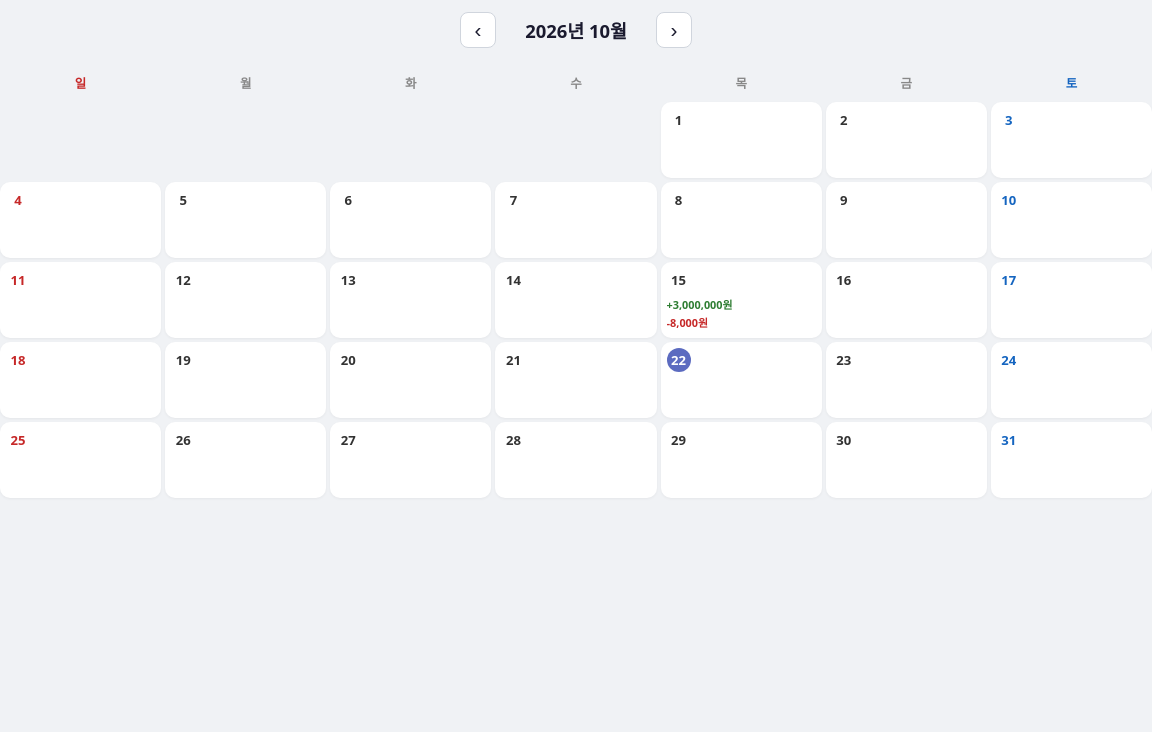
Test: 날짜를 누르면 상세가 표시되고 다시 누르면 닫힌다
What coordinates should you click on to do the following:
click the text "15"
I would click on:
 (741, 300)
Its box is [661,262,822,338].
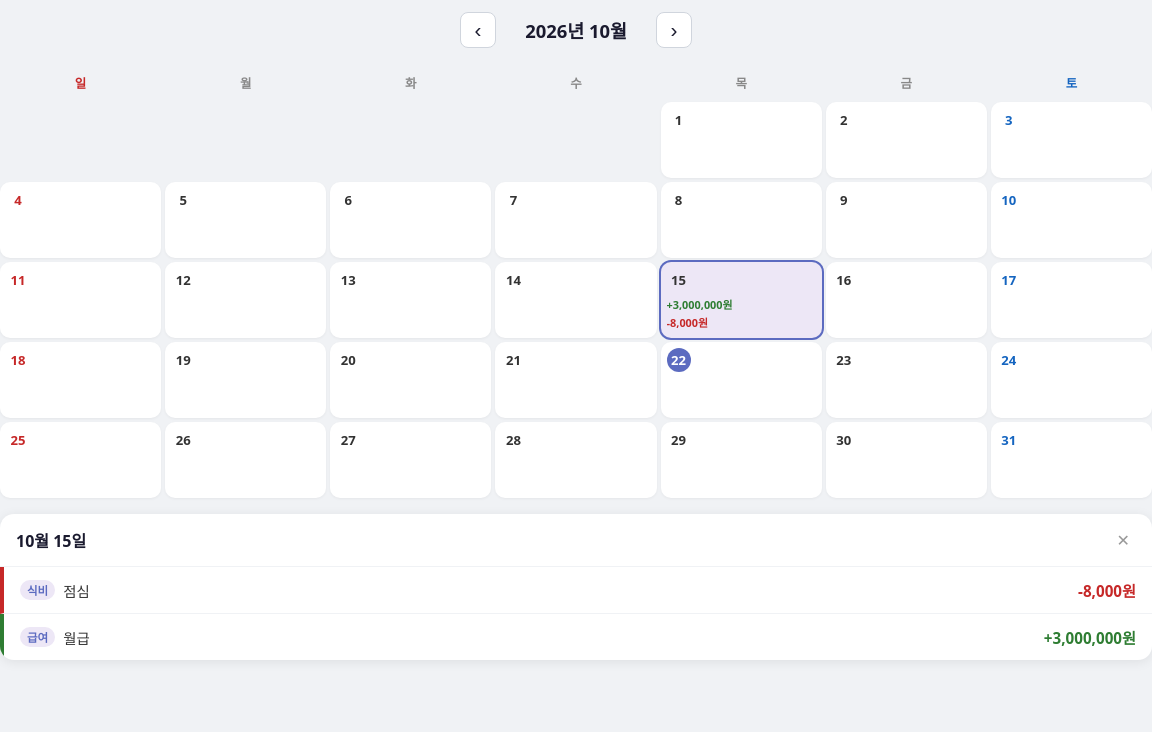
expect the text "10월 15일" is shown: met, box [16,528,86,552]
expect the text "점심" is shown: met, box [63,580,90,600]
expect the text "월급" is shown: met, box [63,626,90,648]
What coordinates should you click on to do the following:
click the text "15"
I would click on:
 (741, 300)
Its box is [661,262,822,338].
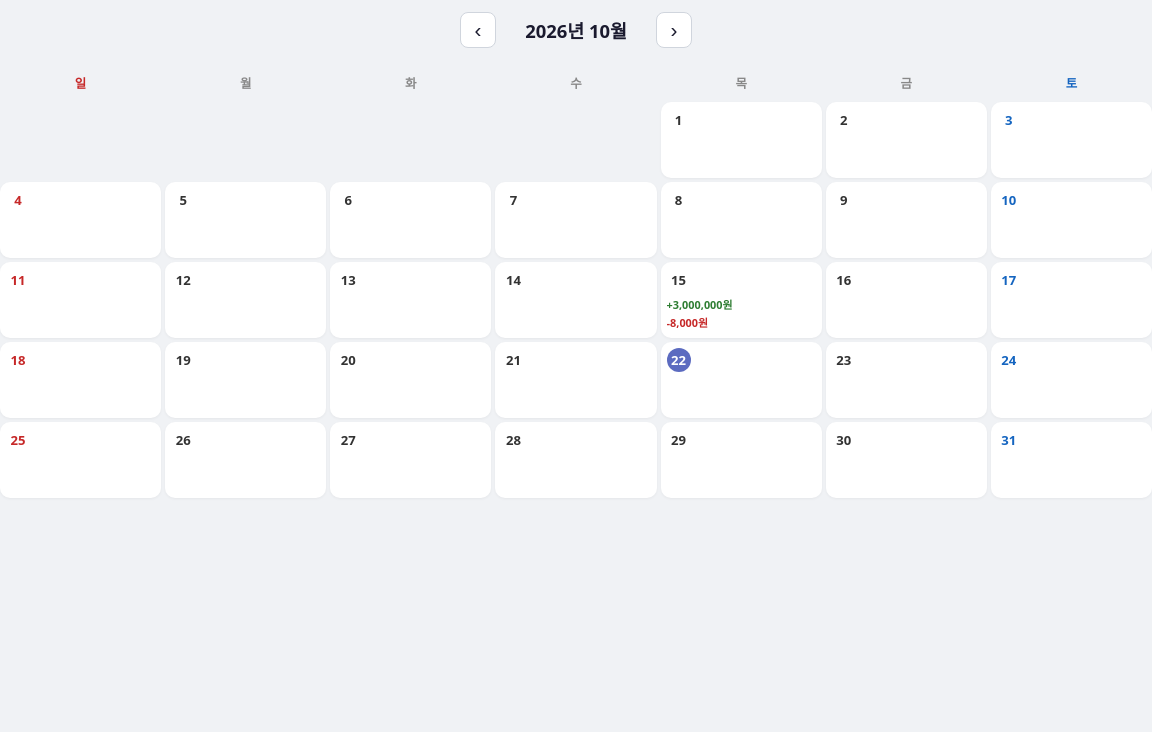
expect the text "10월 15일" is gone: met
